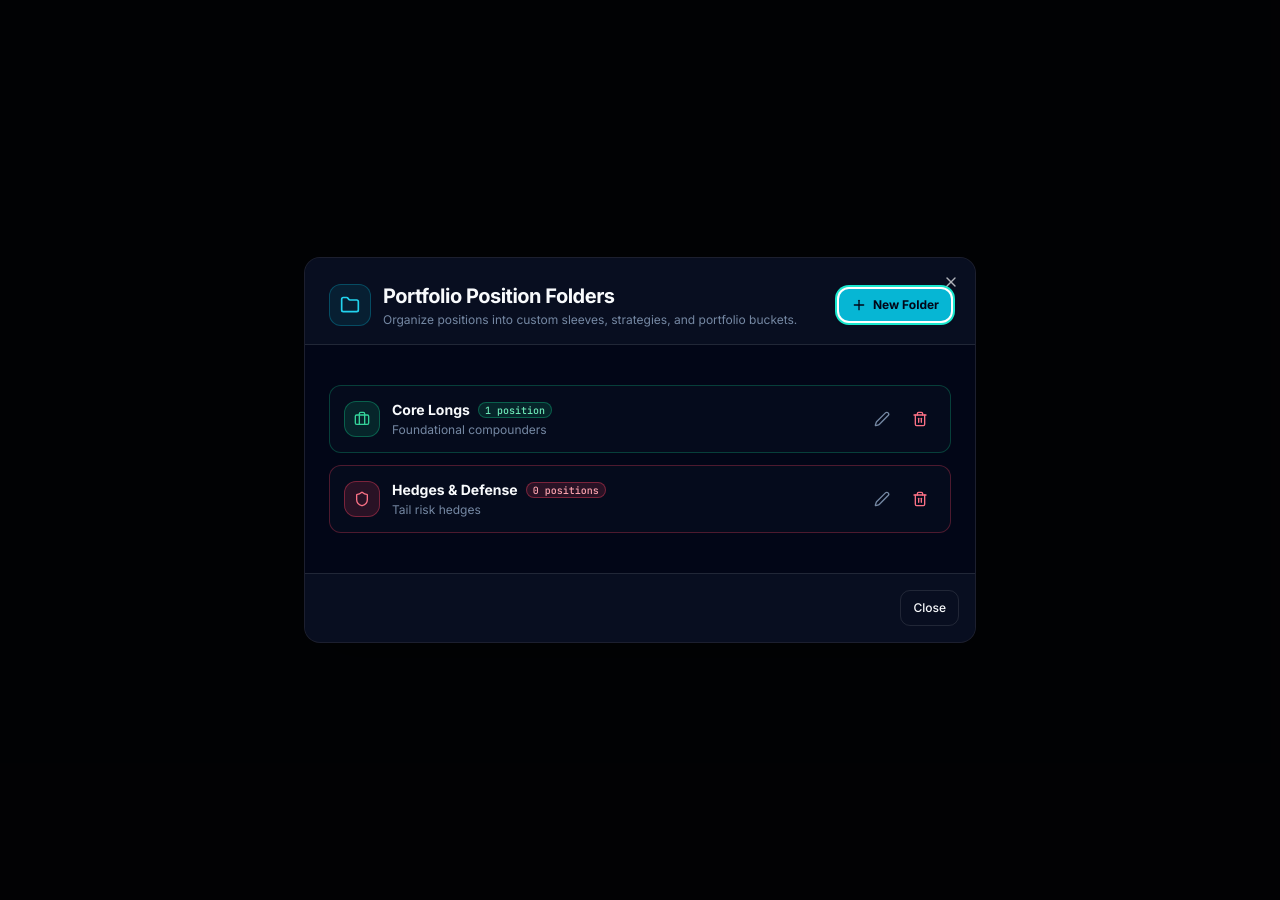
Test case: Position Folder Components › PositionFolderManagerModal › renders folder list and allows switching to new folder form
Expected: the heading "Portfolio Position Folders" is shown, [383, 284, 614, 308]
Expected: the text "Core Longs" is shown, [392, 400, 470, 420]
// Click "New Folder" button
Click the button "New Folder": [895, 305] box [839, 289, 951, 321]
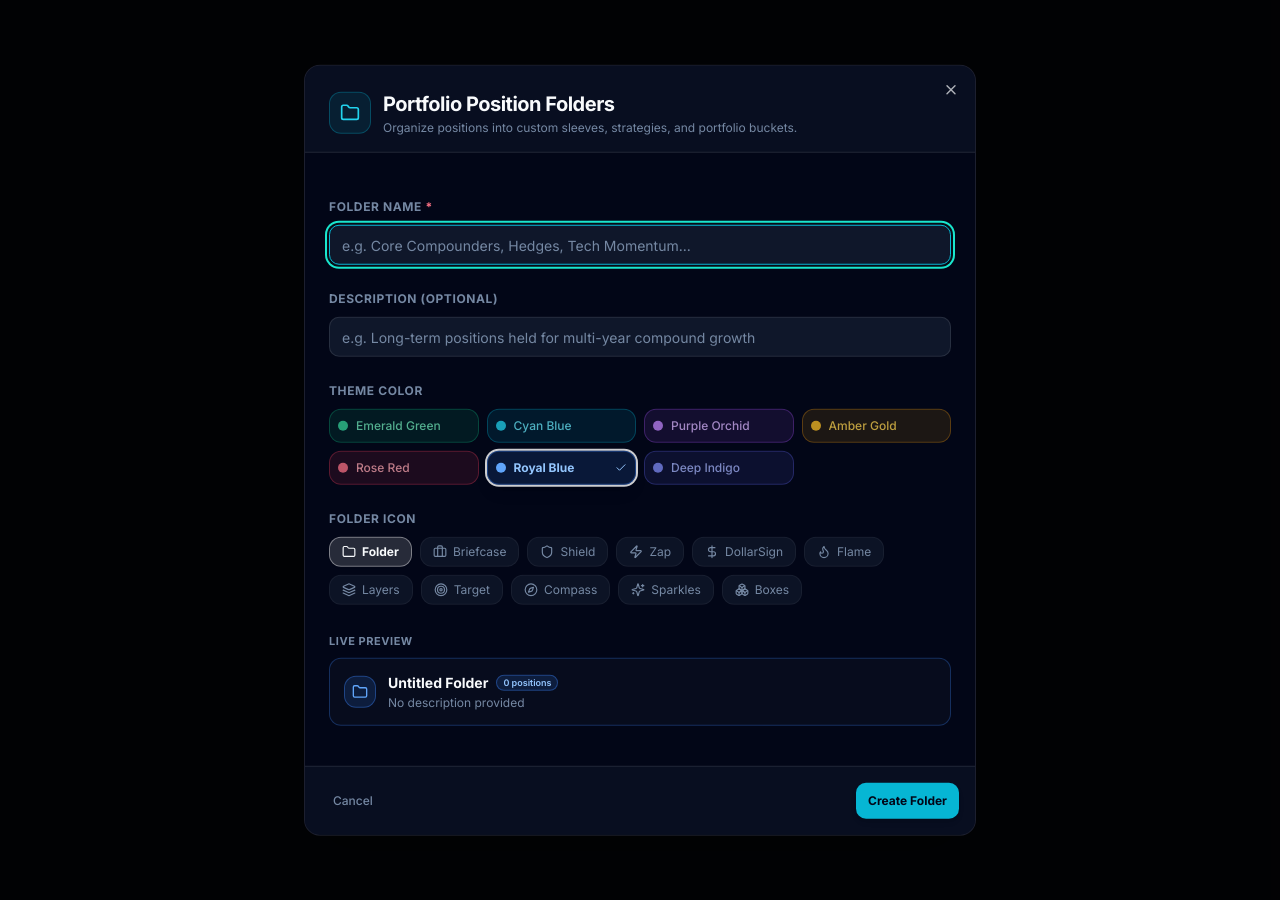
Now the text "Folder Name *" is shown, box [329, 199, 433, 214]
Now the field with placeholder "e.g. Core Compounders, Hedges, Tech Momentum..." is shown, box [329, 225, 951, 265]
Now the text "Theme Color" is shown, box [329, 383, 423, 398]
